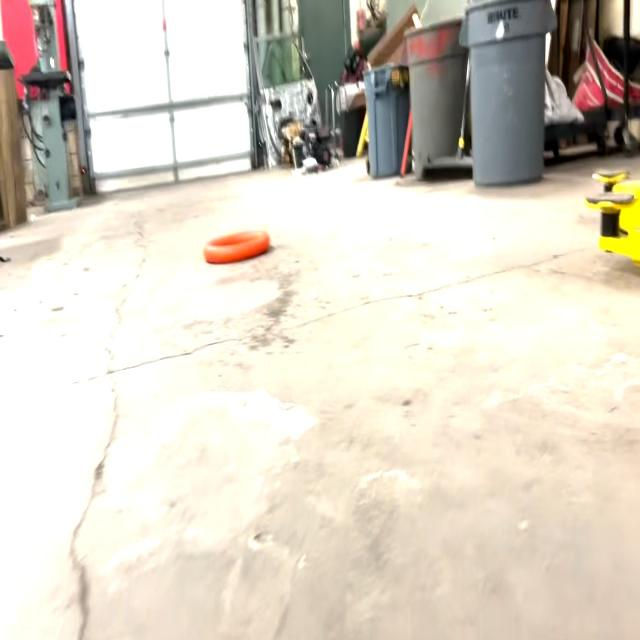note: (204, 221, 270, 266)
